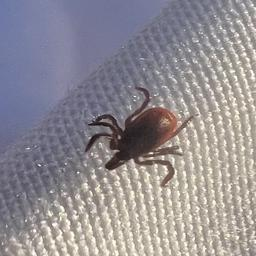Ixodes scapularis: (85, 85, 193, 187)
